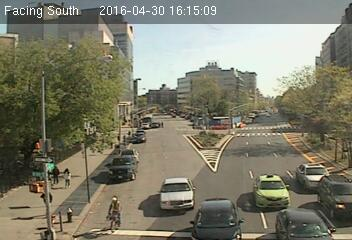neg: (96, 190, 126, 230), (261, 159, 274, 177), (198, 127, 210, 144), (275, 93, 287, 109), (168, 180, 179, 195)
pos: (59, 166, 75, 187), (47, 162, 63, 183), (158, 119, 165, 128)
